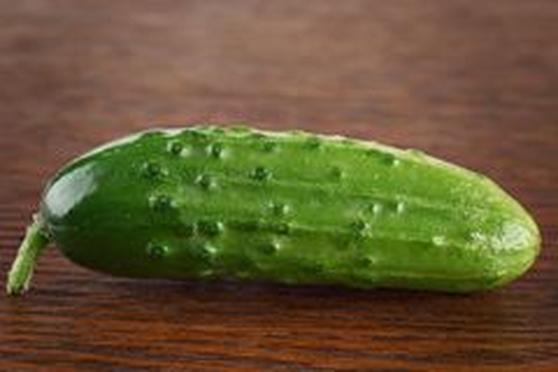cucumber: (30, 117, 551, 307)
